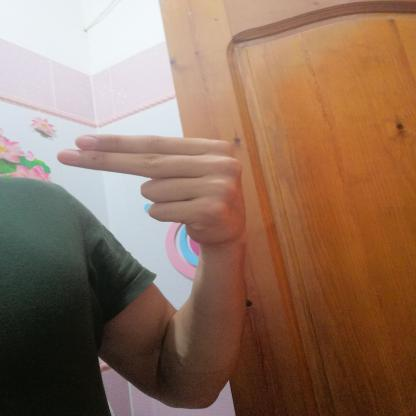AYN: (41, 124, 267, 256)
